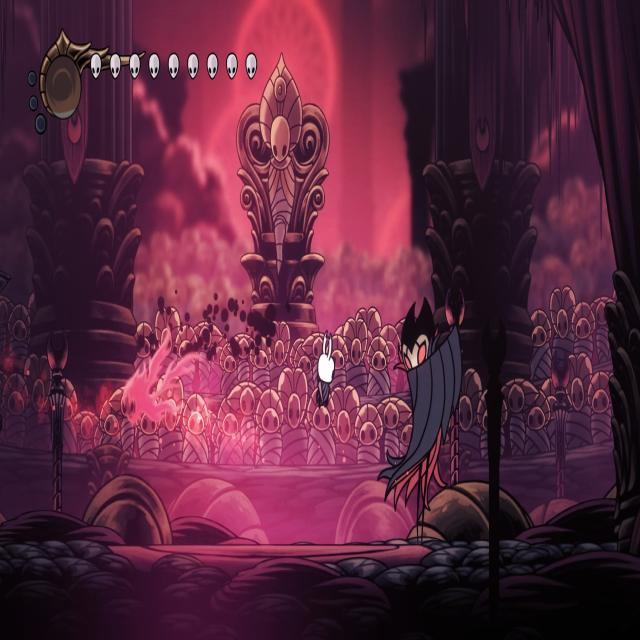Fire Bat: (121, 331, 194, 424)
Grimm: (376, 292, 463, 548)
Player: (313, 326, 340, 412)
